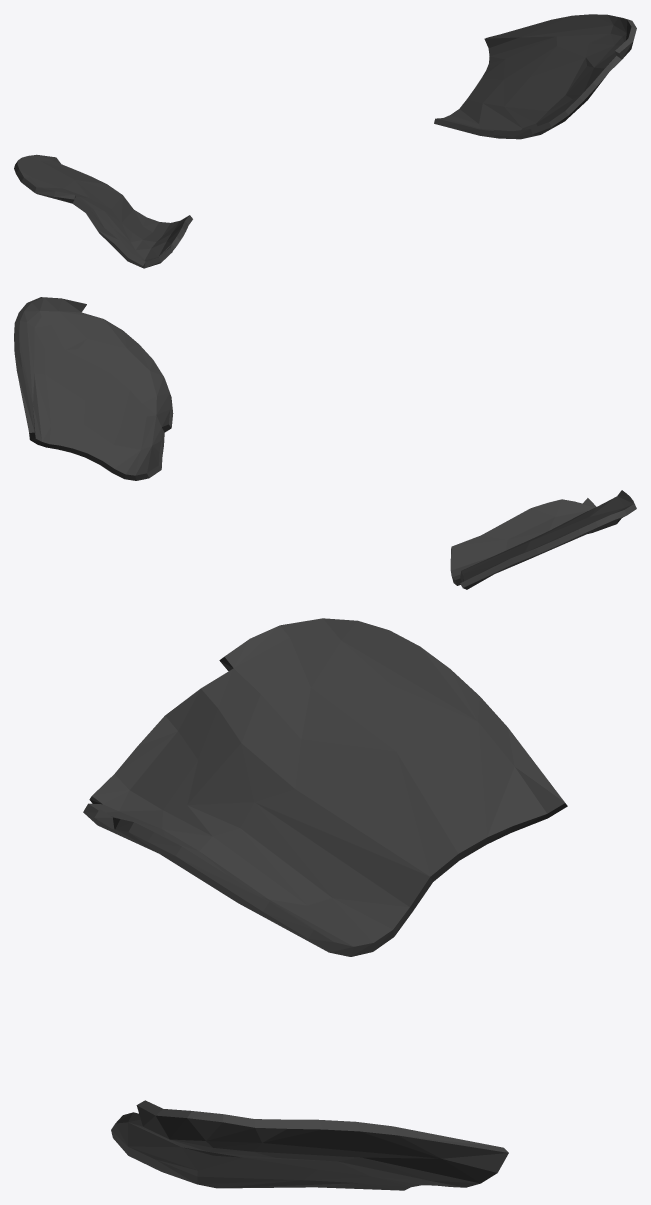
Rendered from t6_caudal_costal_fovea.glb.
3 views of the same model, one above another, from view 1: azimuth 30°, elevation 25°; view 2: azimuth 150°, elevation 25°; view 3: azimuth 270°, elevation 25° (orthographic). The views are drawn at different scales.
Visible parts, largest first — view 1: t6_caudal_costal_fovea; view 2: t6_caudal_costal_fovea; view 3: t6_caudal_costal_fovea.
Part boxes in pixels (<box>): t6_caudal_costal_fovea: <box>14,14,636,268</box>; t6_caudal_costal_fovea: <box>14,297,636,589</box>; t6_caudal_costal_fovea: <box>83,618,567,1190</box>.
Bounding box in the file's own units: 26.43 × 5.58 × 9.47.
1 material, 1 textured.
